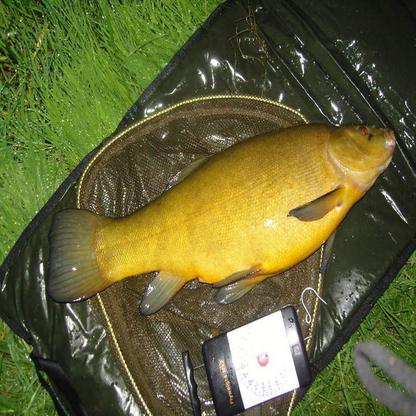fish: (45, 121, 396, 320)
